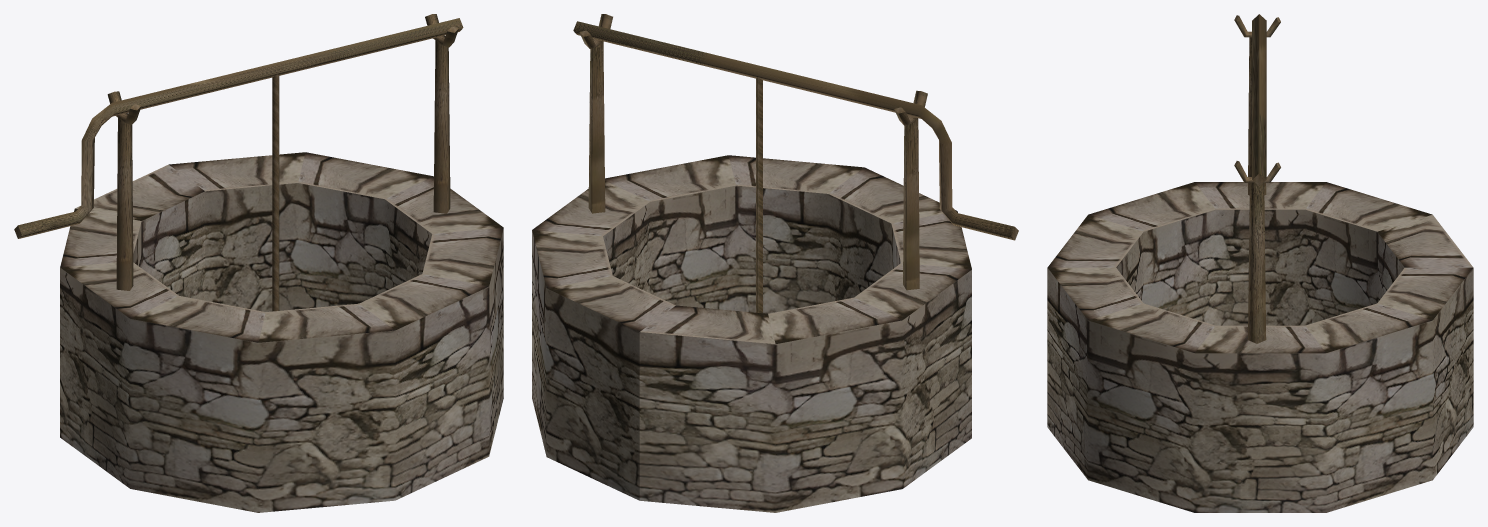
Rendered from africanwell.gltf.
3 renders of one model, left to right at view 1: azimuth 30°, elevation 25°; view 2: azimuth 150°, elevation 25°; view 3: azimuth 270°, elevation 25°, orthographic. The views are drawn at different scales.
Visible parts, largest first — view 1: africanwell_atomic0; view 2: africanwell_atomic0; view 3: africanwell_atomic0.
Boxes of the visible parts, left/top/right/bottom form: africanwell_atomic0: left=14, top=14, right=503, bottom=512; africanwell_atomic0: left=532, top=14, right=1018, bottom=512; africanwell_atomic0: left=1047, top=14, right=1473, bottom=512.
Size of the model in its own units: 15.79 by 12.7 by 13.74.
3 materials, 3 textured.
